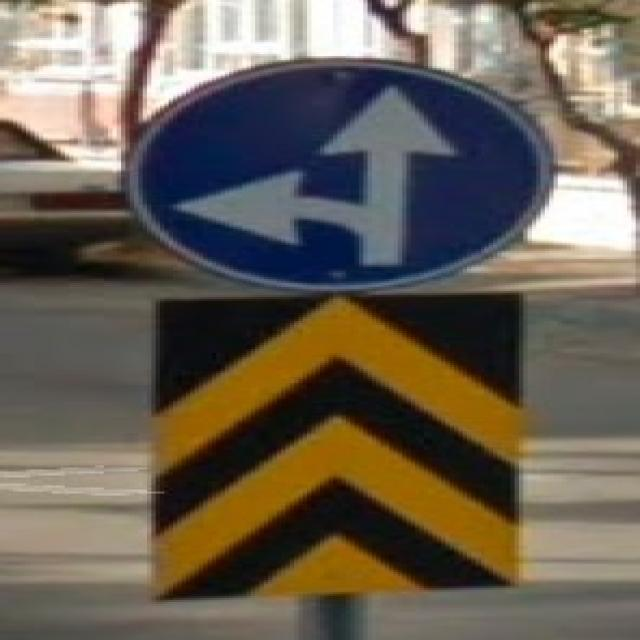Straight or Left: (122, 57, 555, 290)
